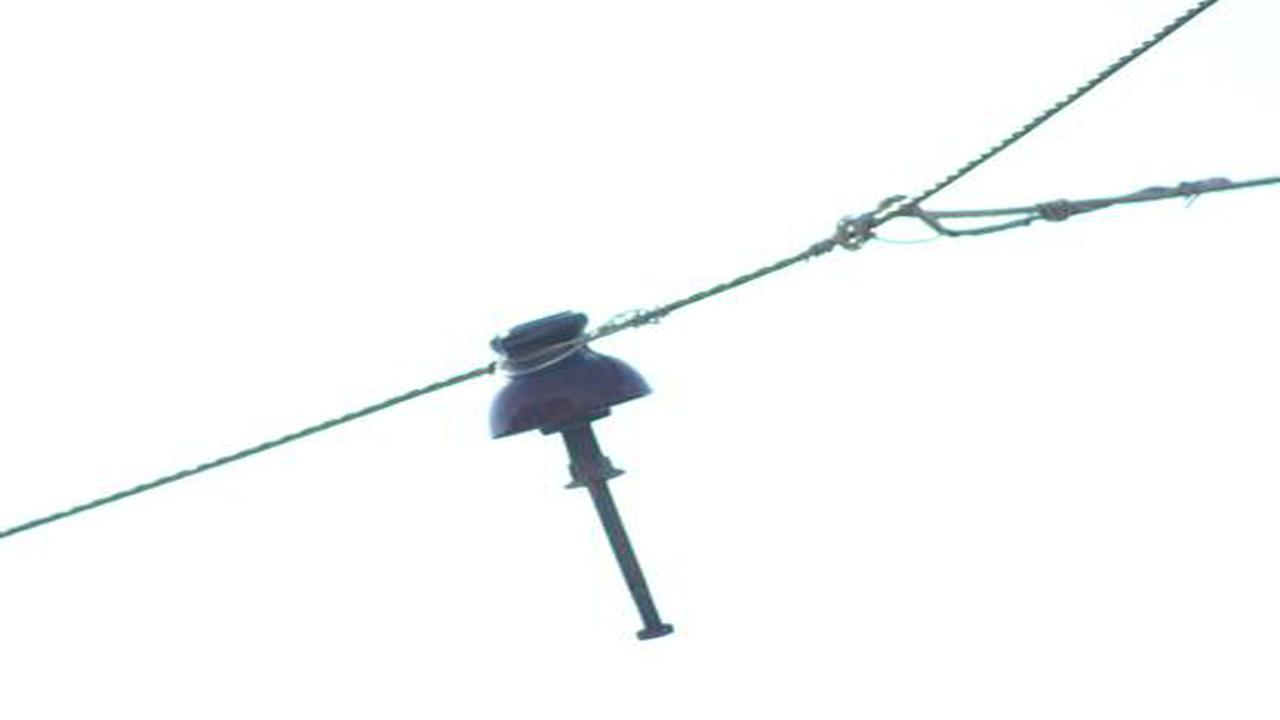insulator_pin: (477, 300, 662, 453)
